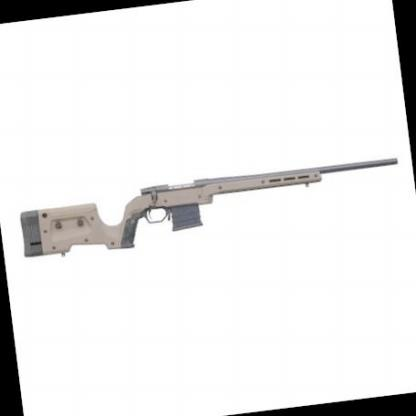rifle: (11, 152, 409, 268)
